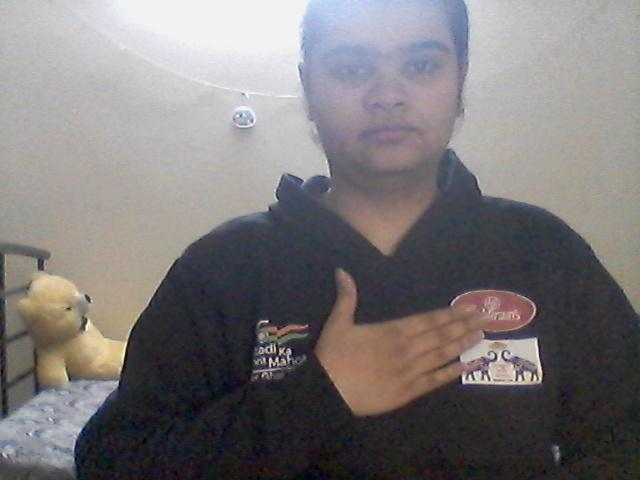please: (311, 258, 491, 424)
